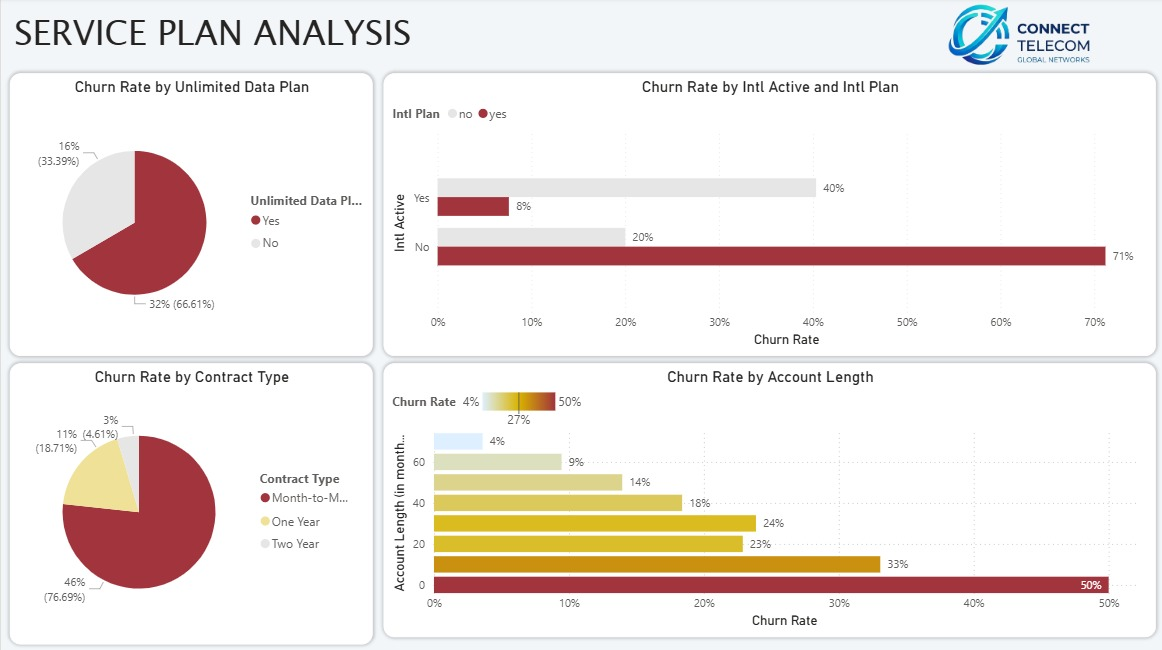

Layout of this report page (visuals, bound fields, positions):
{"tool":"powerbi","page":{"name":"service plan analysis (Dashboarding) step","canvas":[1280,720],"ordinal":7},"visuals":[{"type":"pieChart","fields":{"Category":["Dim_Service_Plan.Contract Type"],"Y":["Calculations.Churn Rate"]},"box":[10,401.4,398.6,308.6],"z":0},{"type":"pieChart","title":"Churn Rate by Unlimited Data Plan","fields":{"Category":["Dim_Service_Plan.Unlimited Data Plan"],"Y":["Calculations.Churn Rate"]},"box":[10,84.3,398.6,310],"z":1000},{"type":"clusteredBarChart","title":"Churn Rate by Intl Active and Intl Plan","fields":{"Category":["Dim_Service_Plan.Intl Active"],"Y":["Calculations.Churn Rate"],"Series":["Dim_Service_Plan.Intl Plan"]},"box":[419.9,83.7,848,310.1],"z":2000},{"type":"clusteredBarChart","title":"Churn Rate by Account Length","fields":{"Category":["Fact_Churn.Account Length (in months) (bins)"],"Y":["Calculations.Churn Rate"]},"box":[419.9,402.1,848,300.5],"z":3000},{"type":"textbox","box":[9.6,6.9,456.9,72.7],"z":4000},{"type":"image","box":[968.8,0,299.1,79.6],"z":5000}]}

Visuals, with their boxes in screenshot pixels (x1, y1, x2, y2), scaled from the page's 1280x720 canvas onto the 1162x650 screenshot:
pieChart - Dim_Service_Plan.Contract Type x Calculations.Churn Rate: x1=9, y1=362, x2=371, y2=641
"Churn Rate by Unlimited Data Plan" pieChart: x1=9, y1=76, x2=371, y2=356
"Churn Rate by Intl Active and Intl Plan" clusteredBarChart: x1=381, y1=76, x2=1151, y2=356
"Churn Rate by Account Length" clusteredBarChart: x1=381, y1=363, x2=1151, y2=634
textbox: x1=9, y1=6, x2=423, y2=72
image: x1=879, y1=0, x2=1151, y2=72
